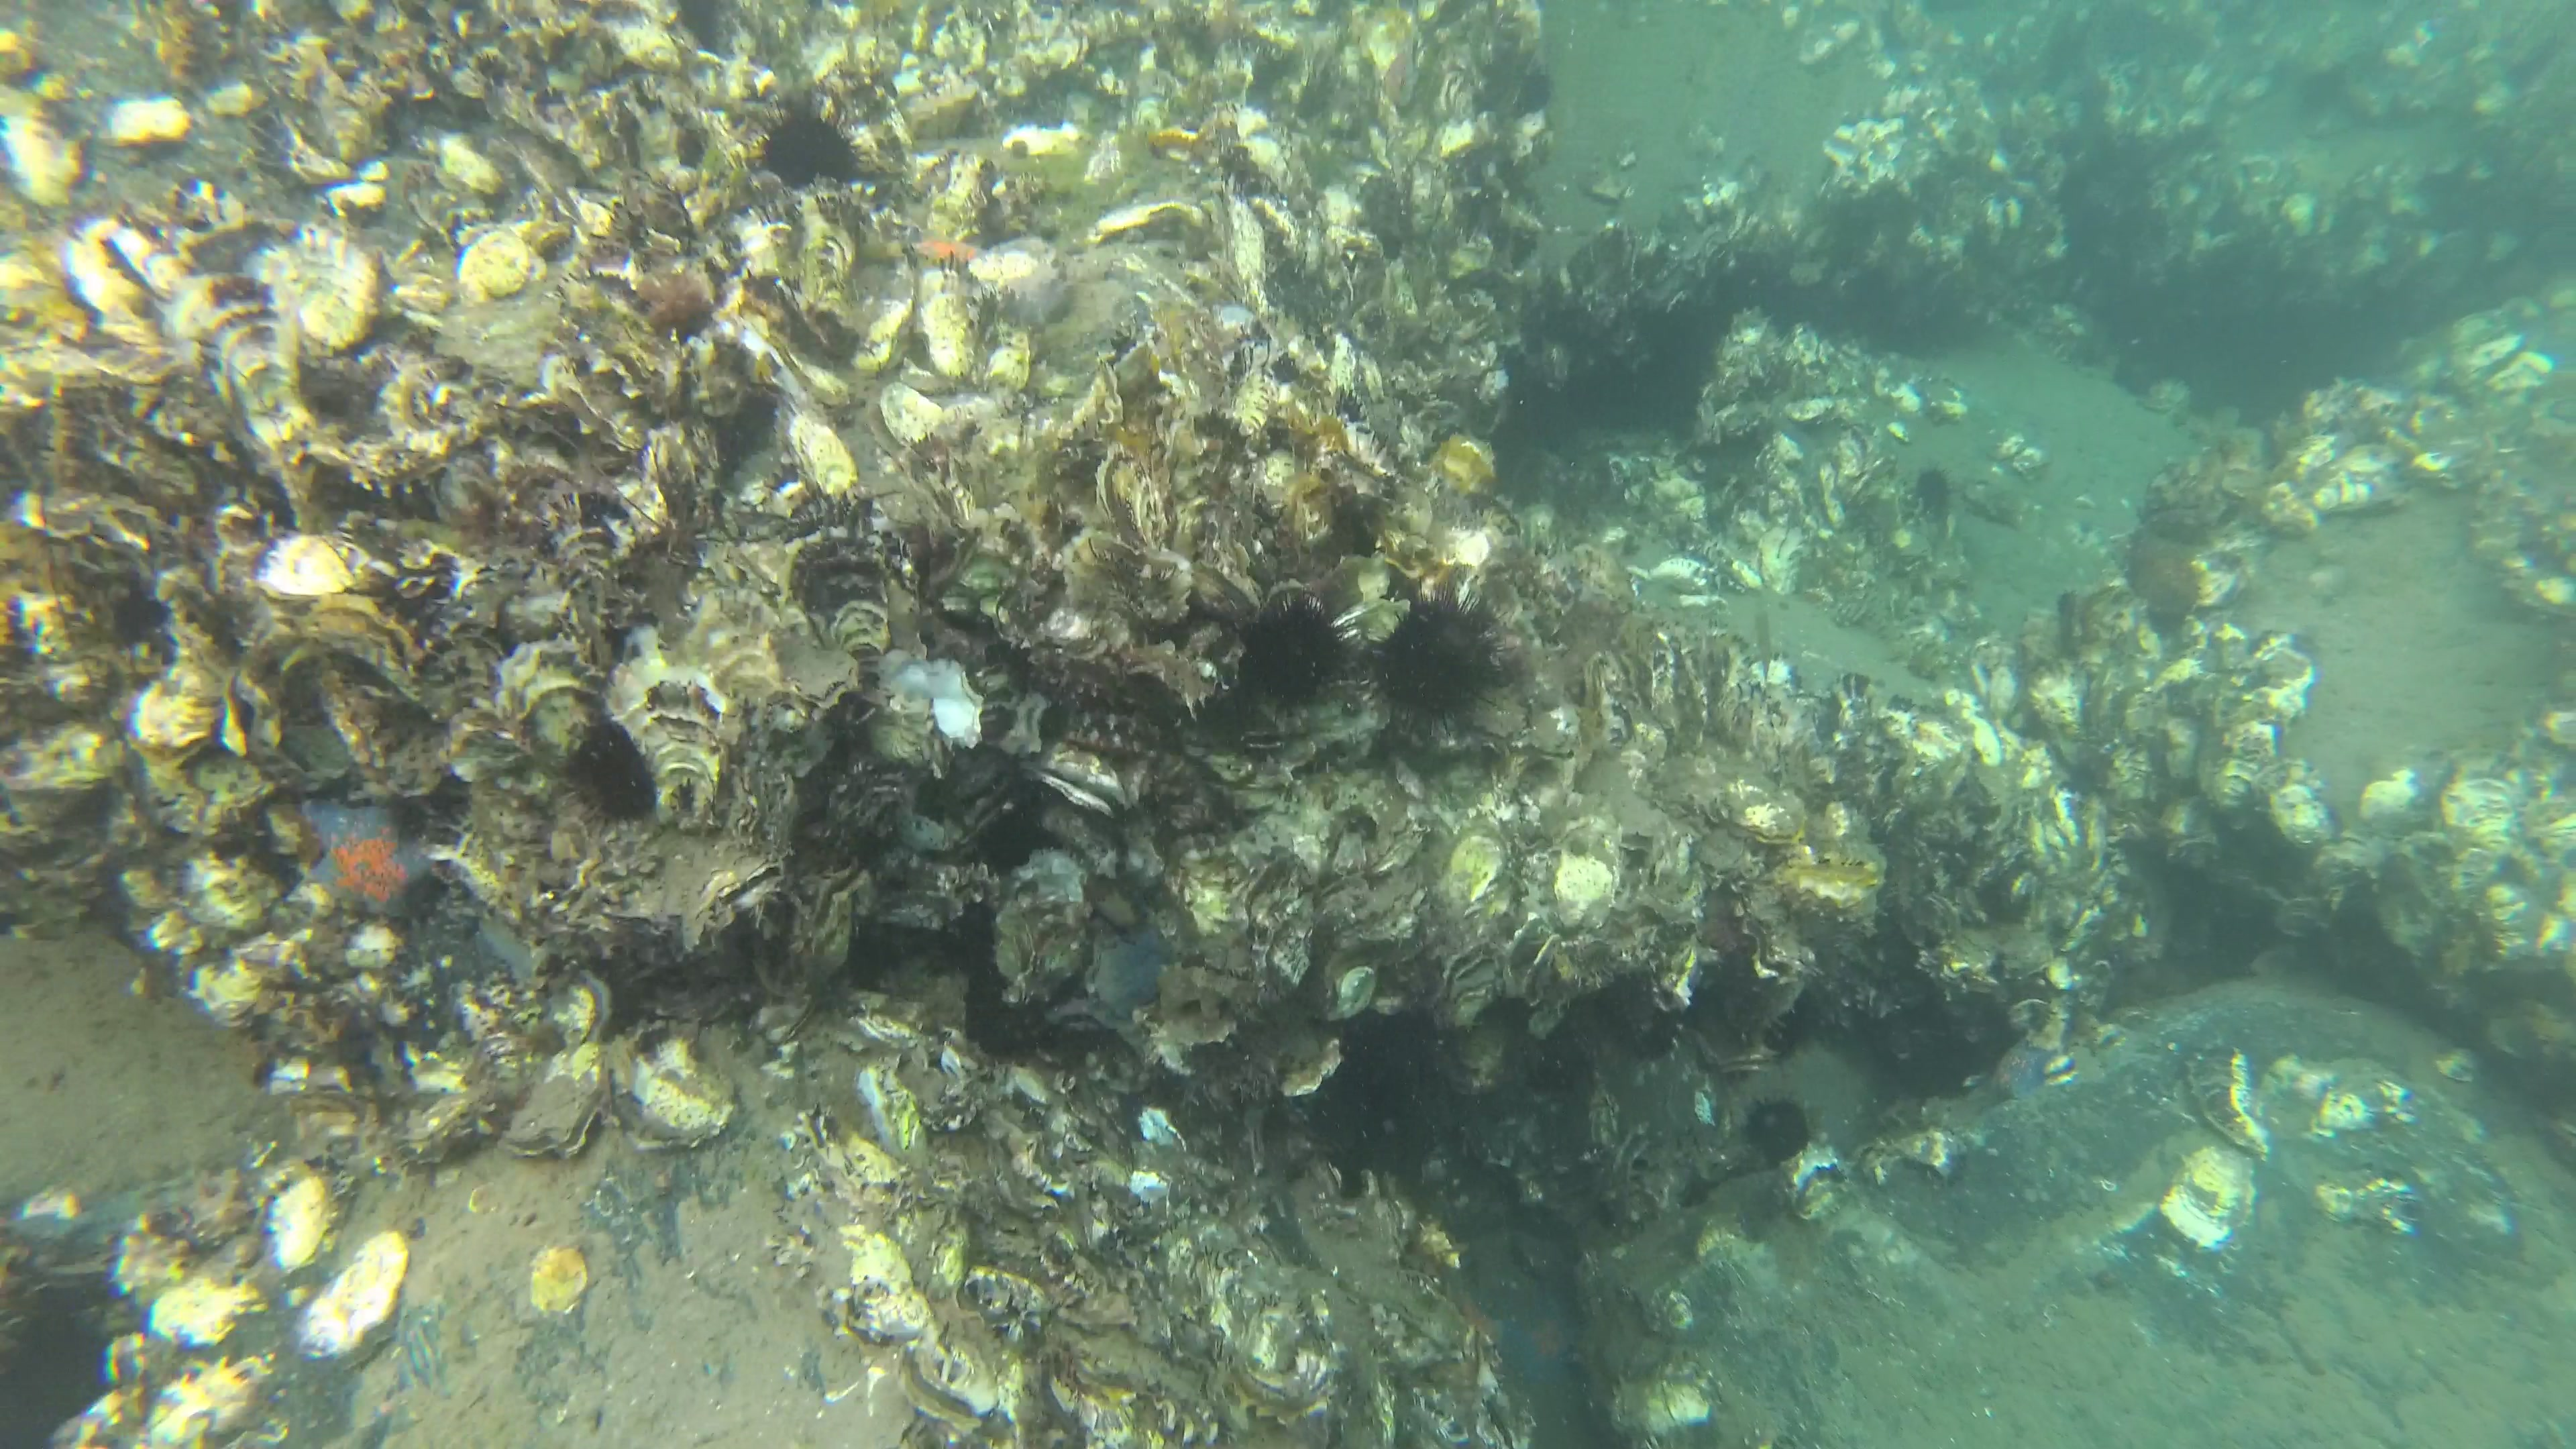echinus: (1368, 571, 1518, 741), (1226, 584, 1355, 715), (745, 88, 874, 193), (559, 718, 663, 840), (1741, 1093, 1819, 1171), (1913, 462, 1959, 524), (1516, 58, 1557, 120)
starfish: (290, 791, 444, 925), (1493, 1302, 1587, 1392), (1985, 1031, 2058, 1102), (906, 226, 985, 276)
